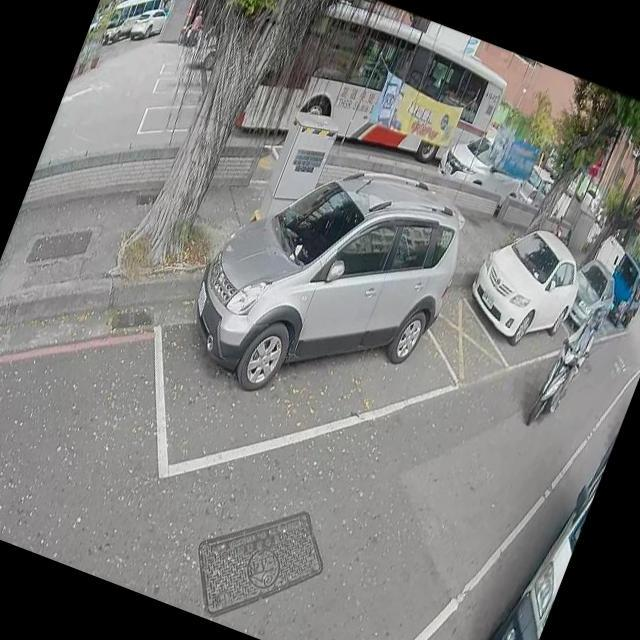person: (536, 296, 608, 419), (180, 2, 208, 49)
